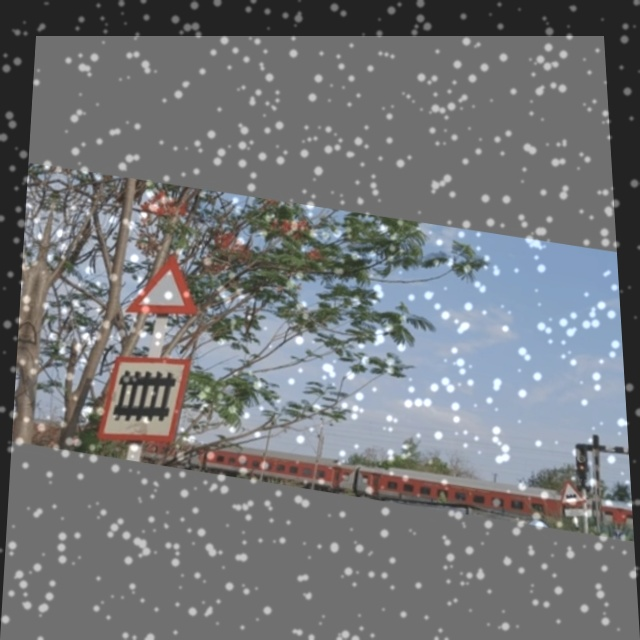Guarded_Level_Crossing: (95, 338, 198, 448)
